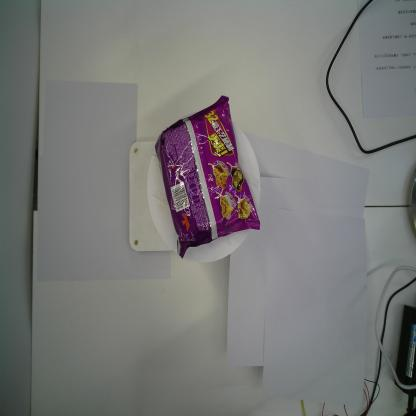Instant Noodles: (154, 94, 262, 259)
